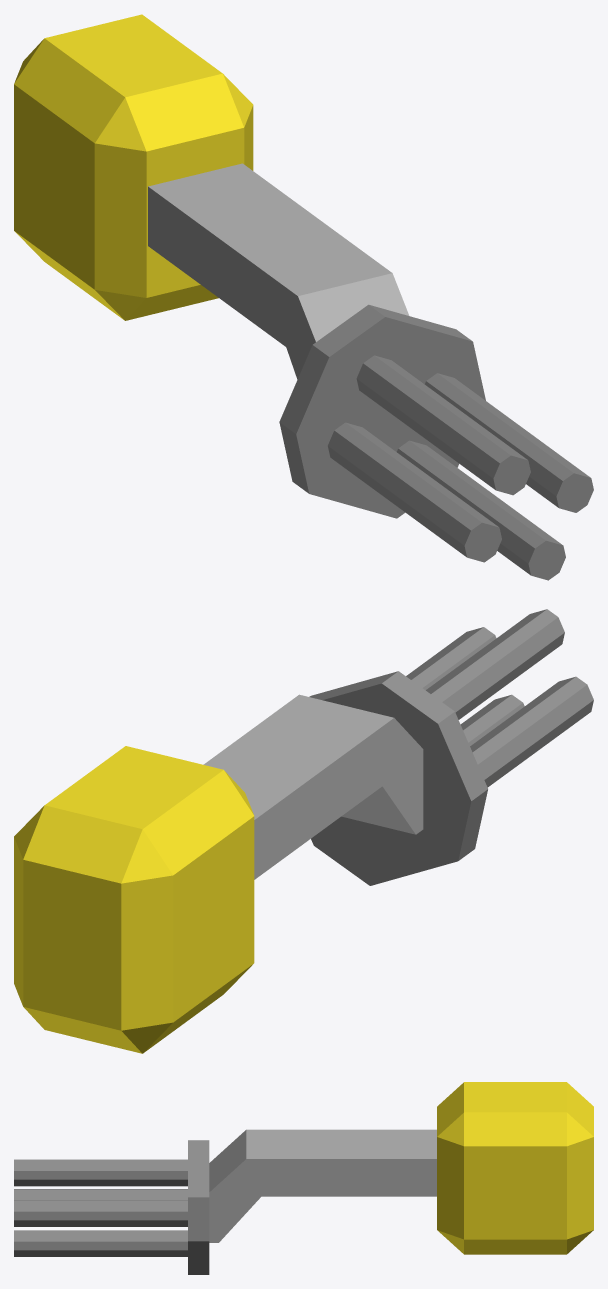
File: orb_cannon.glb
The picture shows the model from 3 angles, top to bottom: view 1: azimuth 30°, elevation 25°; view 2: azimuth 150°, elevation 25°; view 3: azimuth 270°, elevation 25°; orthographic projection. The views are drawn at different scales.
Parts seen in each view (by area): view 1: Cube, spinner; view 2: Cube, spinner; view 3: Cube, spinner.
Part boxes in pixels (x1=…): Cube: x1=14, y1=14, x2=409, y2=379; spinner: x1=279, y1=304, x2=593, y2=580; Cube: x1=14, y1=694, x2=423, y2=1053; spinner: x1=309, y1=609, x2=593, y2=885; Cube: x1=209, y1=1082, x2=593, y2=1254; spinner: x1=14, y1=1140, x2=209, y2=1274.
Size of the model in its own units: 0.4832 by 0.6702 by 2.01.
Materials: 1 (1 with a texture image).
